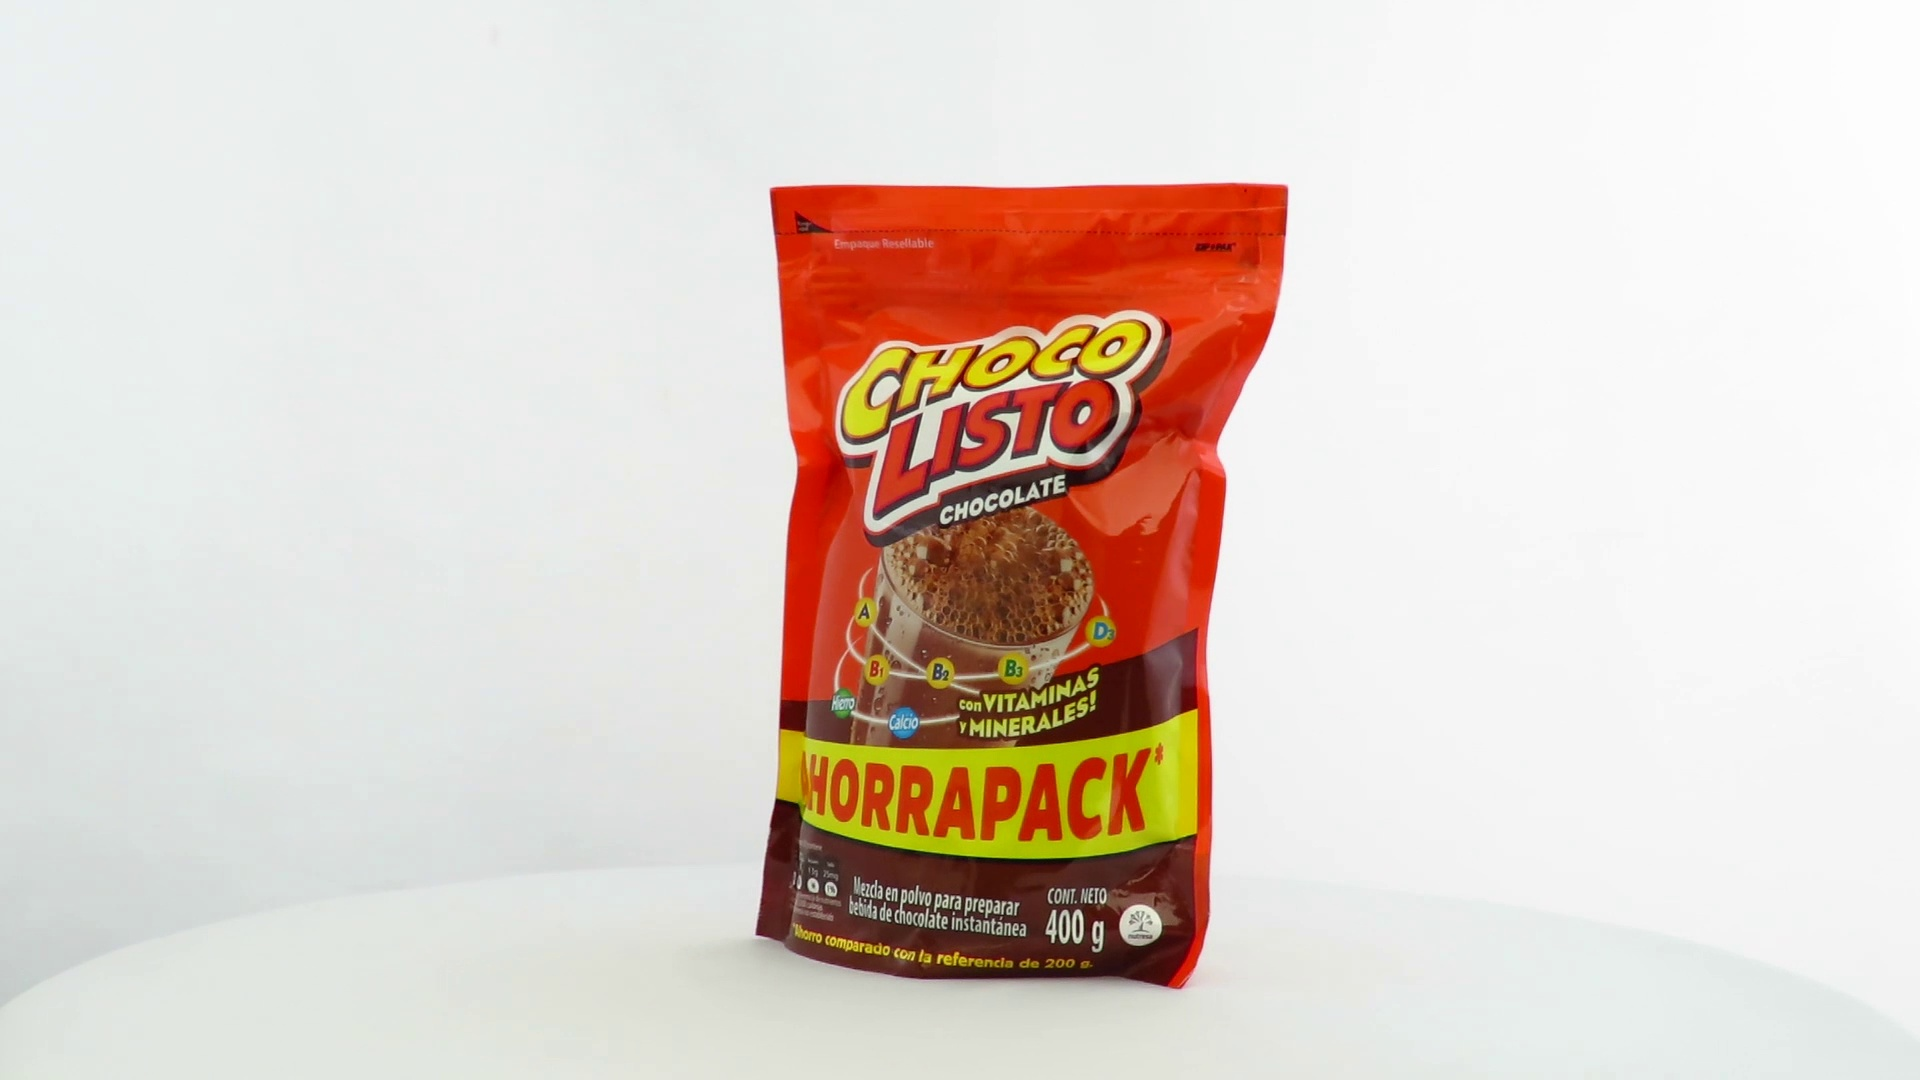COL0170103DYP40000: (750, 177, 1295, 996)
